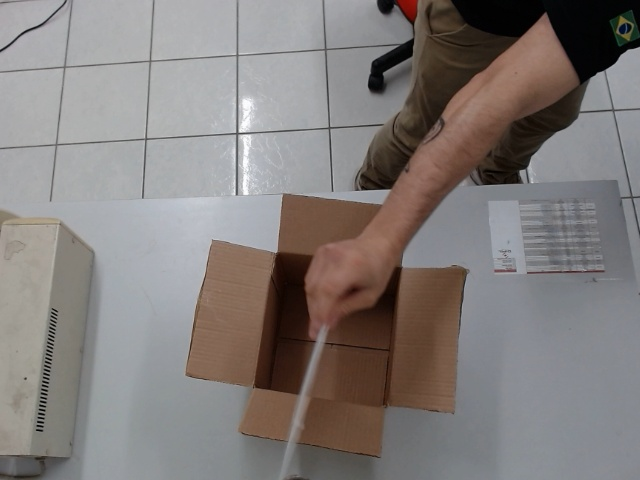divisor: (277, 323, 331, 479)
